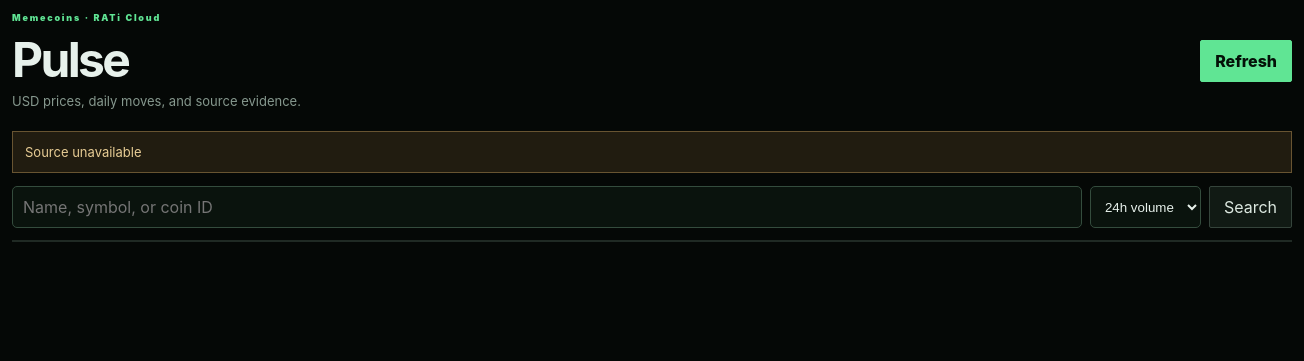
Scenario: native market workspace › shows source failures and supports a refresh
Expected: the message "Source unavailable" is shown, top-left (12, 131), bottom-right (1292, 173)
Click the button "Refresh" at (1246, 60), box top-left (1200, 40), bottom-right (1292, 82)
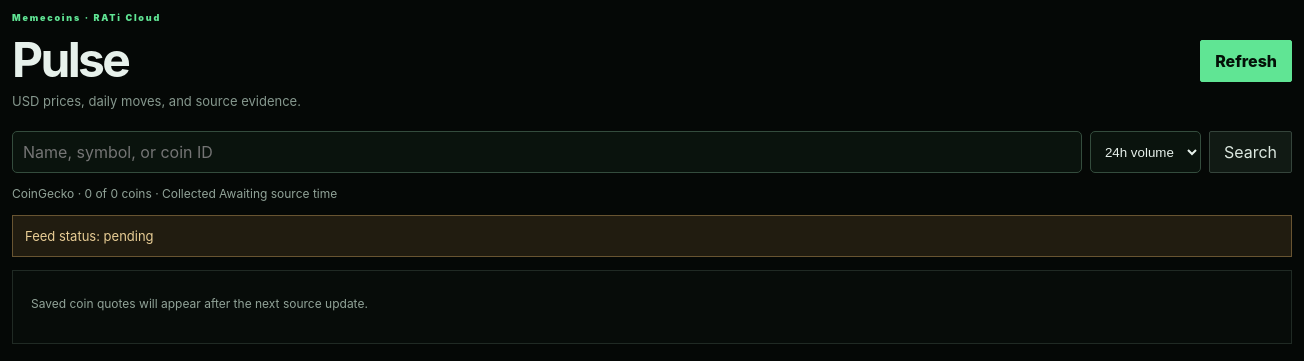
Now the text "Feed status: pending" is shown, box top-left (12, 215), bottom-right (1292, 257)
